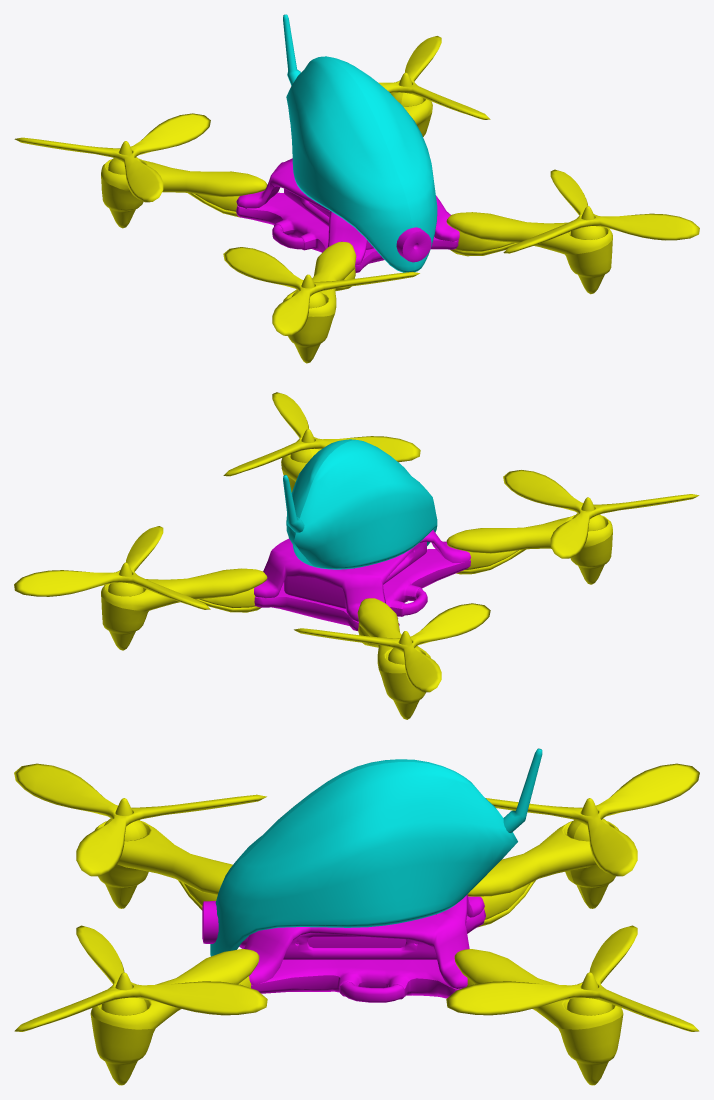
File: Drone_03.fbx
3 renders of one model, top to bottom at view 1: azimuth 30°, elevation 25°; view 2: azimuth 150°, elevation 25°; view 3: azimuth 270°, elevation 25°, orthographic. The views are drawn at different scales.
Visible parts, largest first — view 1: Drone3_Shell, Bodywork3, Drone3_Arm2, Drone3_Arm4, Drone3_Propeller4, Drone3_Propeller1, Drone3_Propeller2, Drone3_Arm1, Drone3_Propeller3, Drone3_Cubit2, Drone3_Cubit4, Drone3_Aereal (+2 smaller); view 2: Drone3_Shell, Bodywork3, Drone3_Arm3, Drone3_Arm1, Drone3_Propeller1, Drone3_Propeller4, Drone3_Propeller3, Drone3_Arm4, Drone3_Propeller2, Drone3_Cubit3, Drone3_Cubit1, Drone3_Rotor3 (+1 smaller); view 3: Drone3_Shell, Bodywork3, Drone3_Propeller1, Drone3_Propeller2, Drone3_Propeller3, Drone3_Propeller4, Drone3_Arm2, Drone3_Arm3, Drone3_Arm4, Drone3_Arm1, Drone3_Aereal, Drone3_Cubit4 (+4 smaller).
Boxes of the visible parts, x1,y1,x2,y2 form: Drone3_Shell: (286,56,437,272); Bodywork3: (236,158,459,272); Drone3_Arm2: (446,212,612,294); Drone3_Arm4: (101,158,267,228); Drone3_Propeller4: (14,113,210,202); Drone3_Propeller1: (223,247,419,335); Drone3_Propeller2: (503,169,699,253); Drone3_Arm1: (283,241,356,363); Drone3_Propeller3: (378,36,490,119); Drone3_Cubit2: (450,231,517,256); Drone3_Cubit4: (188,193,239,217); Drone3_Aereal: (283,14,300,85); Drone3_Shell: (286,439,437,569); Bodywork3: (254,530,470,630); Drone3_Arm3: (101,568,267,650); Drone3_Arm1: (446,515,612,584); Drone3_Propeller1: (503,470,699,558); Drone3_Propeller4: (294,603,490,692); Drone3_Propeller3: (14,526,210,609); Drone3_Arm4: (357,598,430,719); Drone3_Propeller2: (223,392,420,476); Drone3_Cubit3: (196,588,261,612); Drone3_Cubit1: (456,549,526,574); Drone3_Rotor3: (108,562,143,596); Drone3_Shell: (210,759,517,956); Bodywork3: (202,894,485,1002); Drone3_Propeller1: (14,763,266,876); Drone3_Propeller2: (14,925,267,1031); Drone3_Propeller3: (446,925,699,1031); Drone3_Propeller4: (486,763,699,876); Drone3_Arm2: (90,949,259,1085); Drone3_Arm3: (454,949,623,1085); Drone3_Arm4: (467,821,619,908); Drone3_Arm1: (94,821,232,908); Drone3_Aereal: (503,748,542,832); Drone3_Cubit4: (477,880,535,927).
Bounding box in the file's own units: 45.17 × 19.83 × 49.68.
